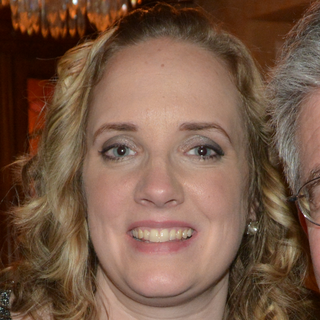eye: (172, 135, 228, 168), (94, 136, 145, 166)
